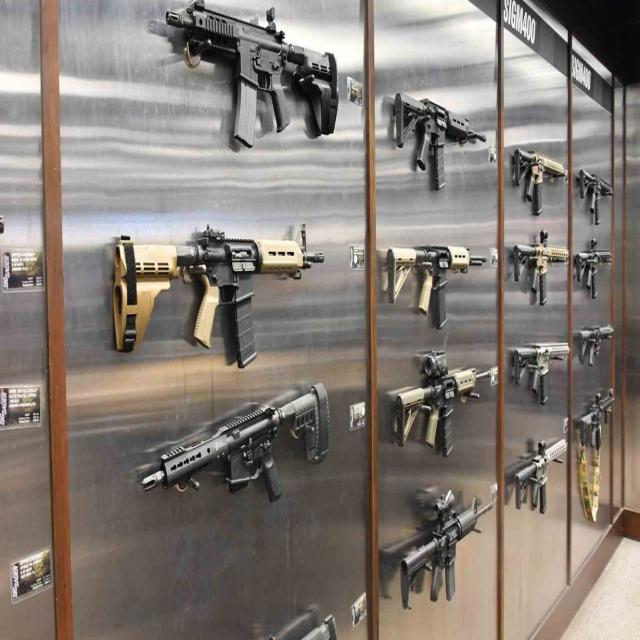Rifle: (113, 223, 325, 369), (166, 0, 339, 147), (137, 382, 329, 502), (400, 490, 492, 609), (396, 351, 491, 457), (394, 93, 487, 191), (387, 246, 488, 330), (514, 231, 568, 305), (514, 439, 567, 513), (511, 345, 570, 403), (514, 149, 565, 216), (575, 239, 612, 299), (581, 389, 615, 450), (581, 170, 613, 226), (579, 325, 613, 366)
